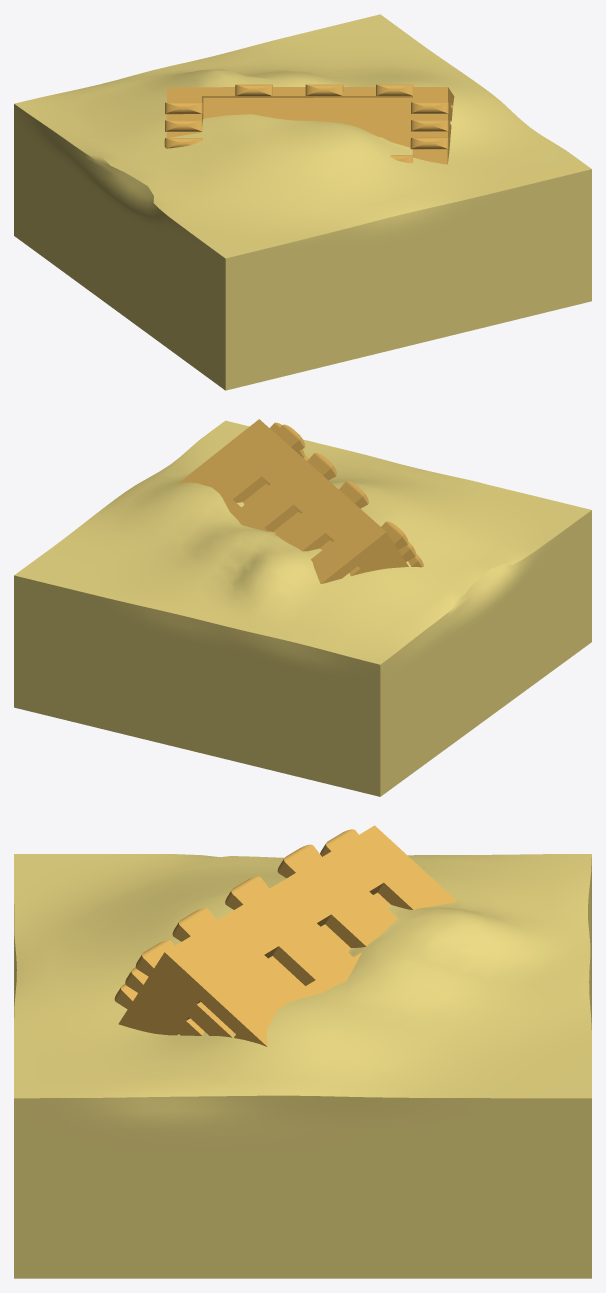
The model's file is Ruins 2.fbx.
The picture shows the model from 3 angles, top to bottom: view 1: azimuth 30°, elevation 25°; view 2: azimuth 150°, elevation 25°; view 3: azimuth 270°, elevation 25°; orthographic projection. The views are drawn at different scales.
Parts seen in each view (by area): view 1: Cube.005, Cube; view 2: Cube.005, Cube; view 3: Cube.005, Cube.
Part boxes in pixels (left/top/right/bottom): Cube.005: left=14, top=14, right=591, bottom=390; Cube: left=164, top=84, right=454, bottom=164; Cube.005: left=14, top=420, right=591, bottom=796; Cube: left=177, top=419, right=423, bottom=583; Cube.005: left=14, top=854, right=591, bottom=1278; Cube: left=114, top=825, right=457, bottom=1046.
Size of the model in its own units: 818 by 429 by 817.
